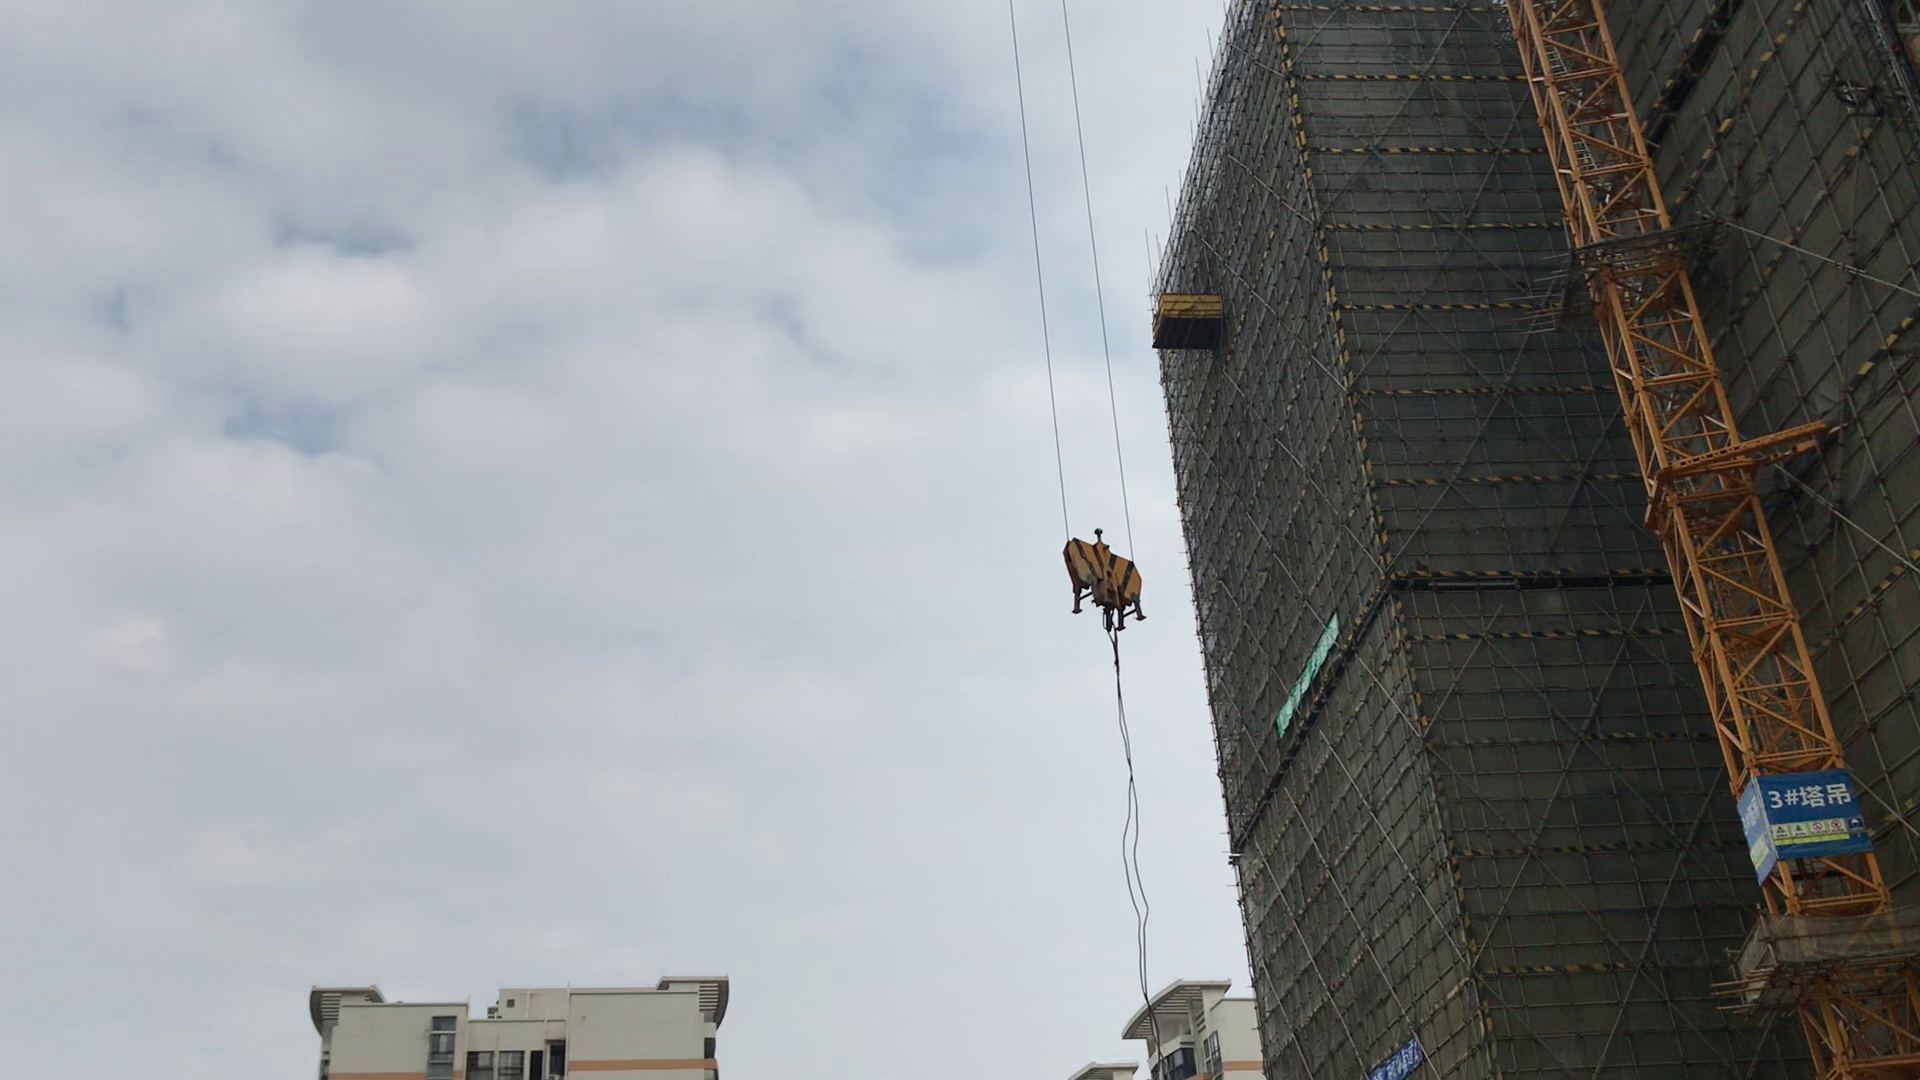hook: (1039, 520, 1160, 644)
slogan: (1276, 612, 1338, 736)
